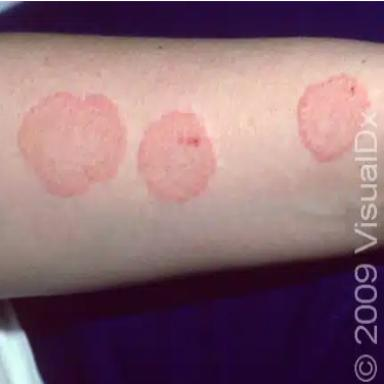Tinea-Corporis: (19, 92, 125, 196), (138, 111, 217, 201), (297, 75, 370, 161)
